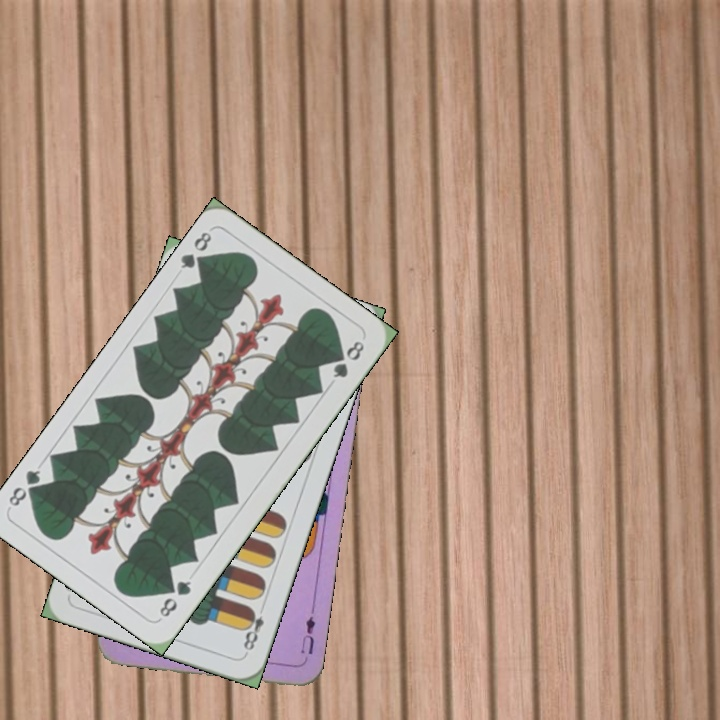E8: (239, 601, 268, 657)
EU: (296, 612, 318, 657)
G8: (176, 227, 215, 274), (155, 576, 194, 620)
